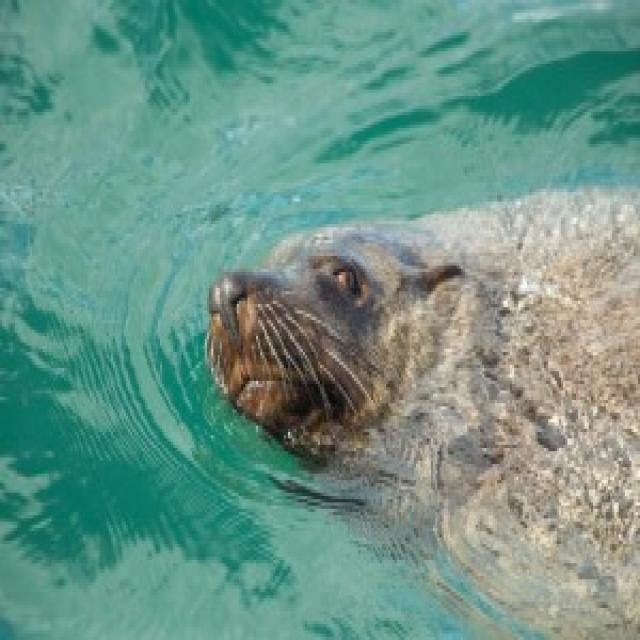Seal: (191, 192, 633, 610)
